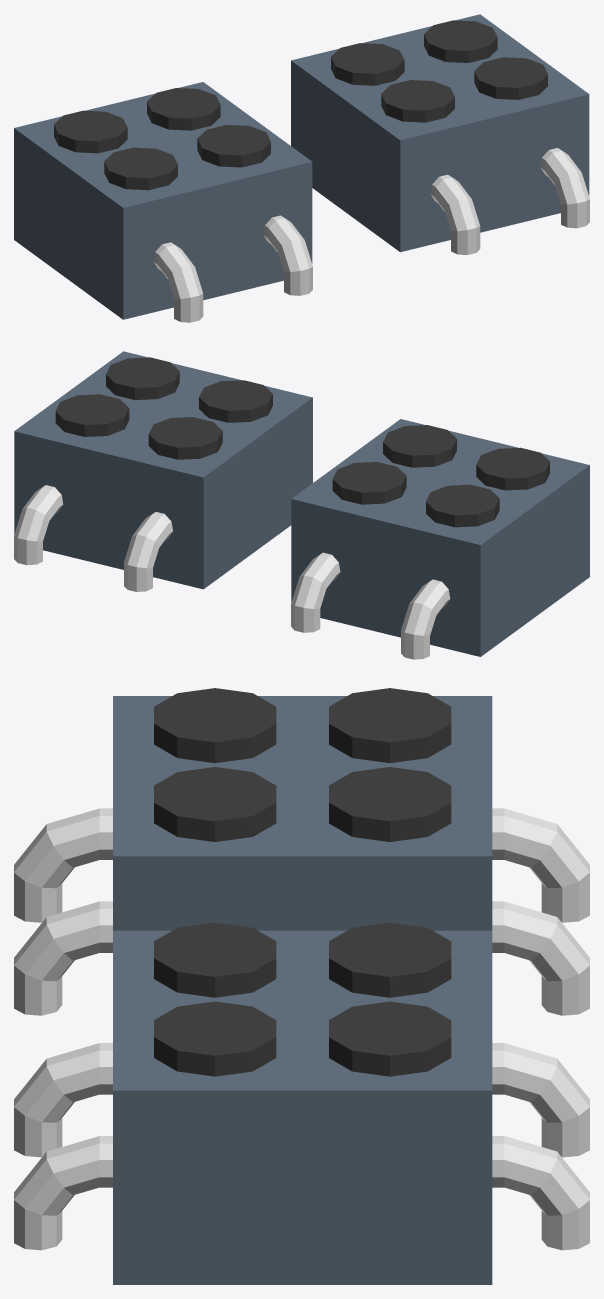
The model's file is 39 AC_duck.fbx.
3 views of the same model, one above another, from view 1: azimuth 30°, elevation 25°; view 2: azimuth 150°, elevation 25°; view 3: azimuth 270°, elevation 25° (orthographic). The views are drawn at different scales.
Visible parts, largest first — view 1: AC_duck; view 2: AC_duck; view 3: AC_duck.
Boxes of the visible parts, x1=… form: AC_duck: x1=14, y1=14, x2=589, y2=322; AC_duck: x1=14, y1=351, x2=589, y2=659; AC_duck: x1=14, y1=688, x2=589, y2=1284.
Size of the model in its own units: 57.25 by 14.54 by 35.3.
